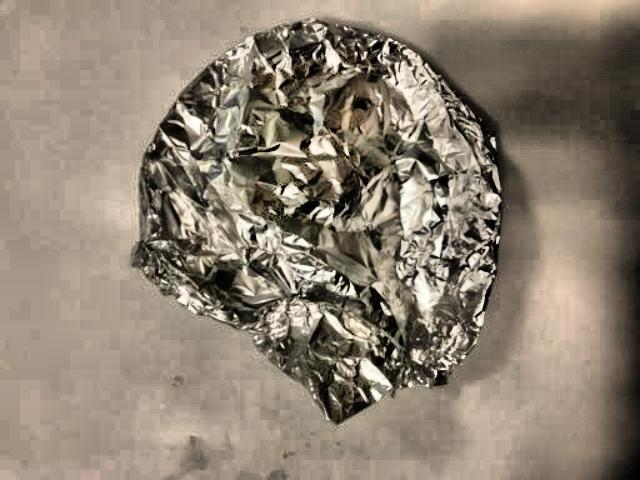Almennt: (107, 18, 509, 417)
